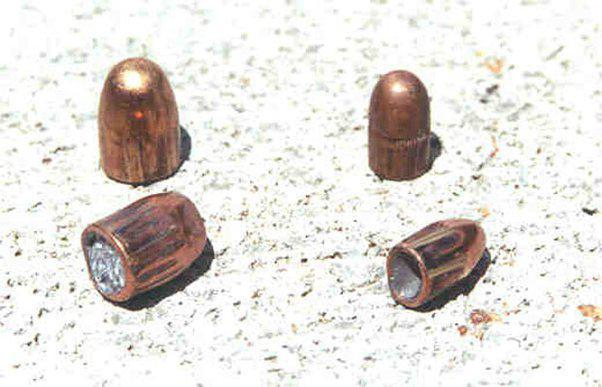Bullet: (79, 188, 216, 304), (93, 58, 192, 182), (378, 216, 495, 310), (364, 64, 439, 187)
